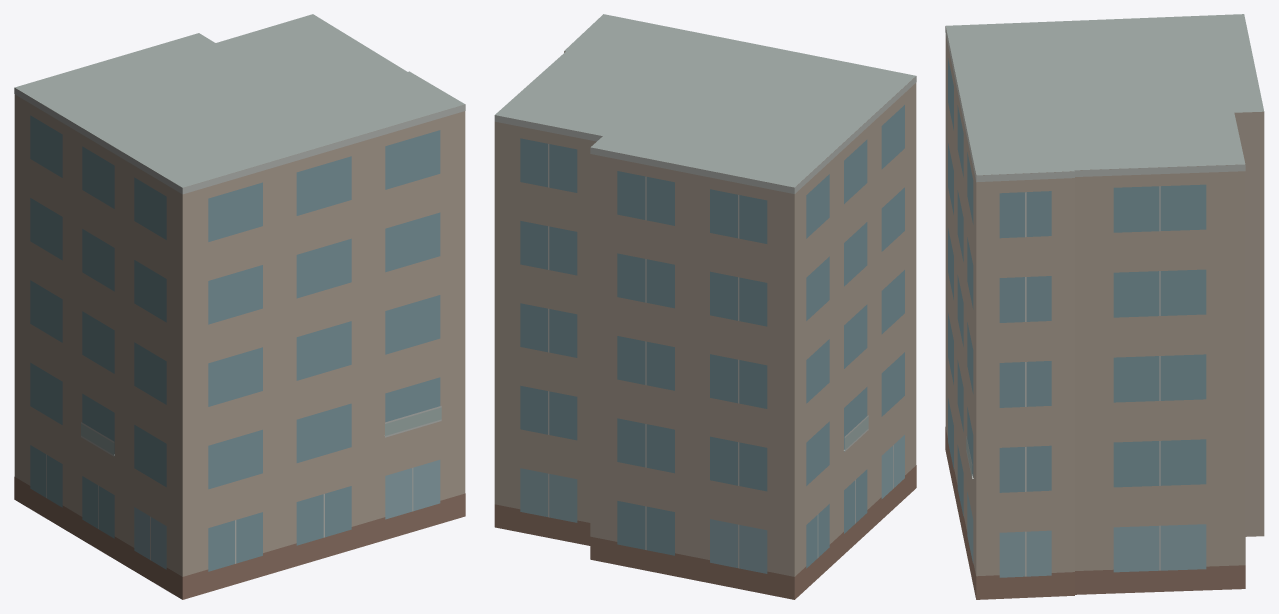
Rendered from survey-upis-32655339.glb.
3 views of the same model, side by side, from view 1: azimuth 30°, elevation 25°; view 2: azimuth 150°, elevation 25°; view 3: azimuth 270°, elevation 25° (orthographic). The views are drawn at different scales.
Visible parts, largest first — view 1: survey-upis-32655339.tmp; view 2: survey-upis-32655339.tmp; view 3: survey-upis-32655339.tmp.
Part boxes in pixels (bbox=[...]): survey-upis-32655339.tmp: bbox=[14, 14, 465, 599]; survey-upis-32655339.tmp: bbox=[494, 14, 916, 599]; survey-upis-32655339.tmp: bbox=[945, 14, 1264, 599].
Size of the model in its own units: 12.44 by 15.25 by 10.39.
